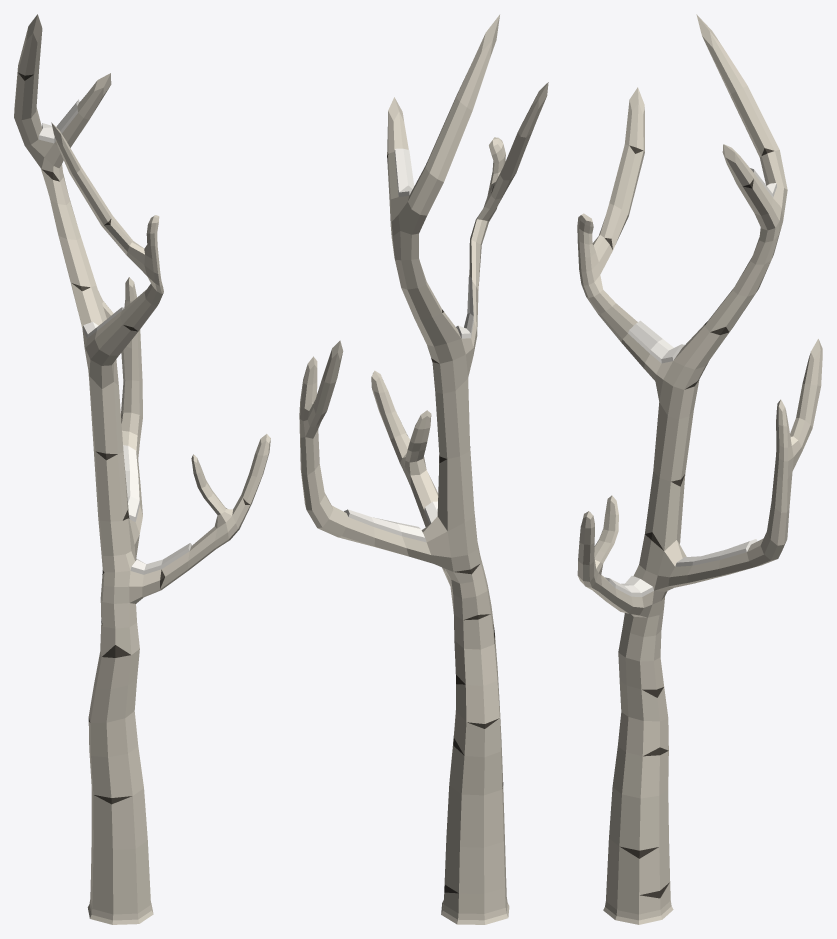
The model's file is BirchTree_Dead_Snow_3.glb.
3 views of the same model, side by side, from view 1: azimuth 30°, elevation 25°; view 2: azimuth 150°, elevation 25°; view 3: azimuth 270°, elevation 25° (orthographic). The views are drawn at different scales.
Parts seen in each view (by area): view 1: BirchTree_Dead_Snow_3; view 2: BirchTree_Dead_Snow_3; view 3: BirchTree_Dead_Snow_3.
Part boxes in pixels (<box>): BirchTree_Dead_Snow_3: <box>14,14,270,924</box>; BirchTree_Dead_Snow_3: <box>299,14,548,924</box>; BirchTree_Dead_Snow_3: <box>577,14,822,924</box>.
Bounding box in the file's own units: 0.7226 × 3.18 × 0.8096.
